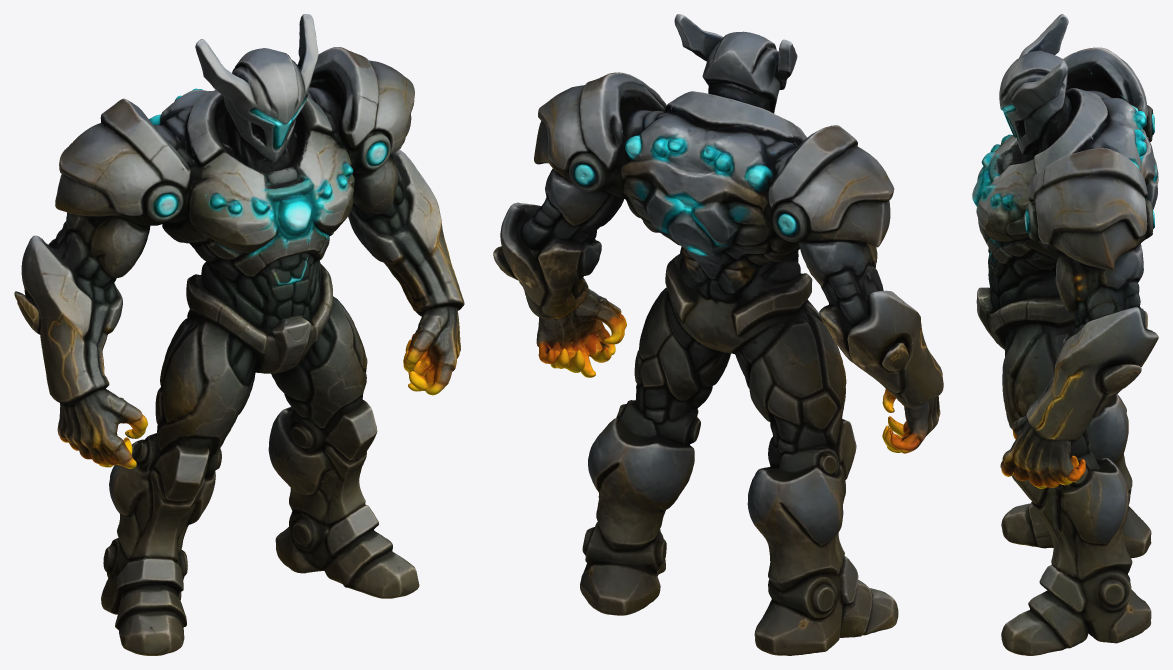
Rendered from Cyberg_Sentinel.glb.
3 views of the same model, side by side, from view 1: azimuth 30°, elevation 25°; view 2: azimuth 150°, elevation 25°; view 3: azimuth 270°, elevation 25° (orthographic). The views are drawn at different scales.
Visible parts, largest first — view 1: input; view 2: input; view 3: input.
Boxes of the visible parts, left/top/right/bottom form: input: left=14, top=14, right=464, bottom=655; input: left=493, top=14, right=943, bottom=655; input: left=972, top=14, right=1158, bottom=655.
Bounding box in the file's own units: 1.4 × 1.9 × 0.5839.
1 material, 1 textured.
